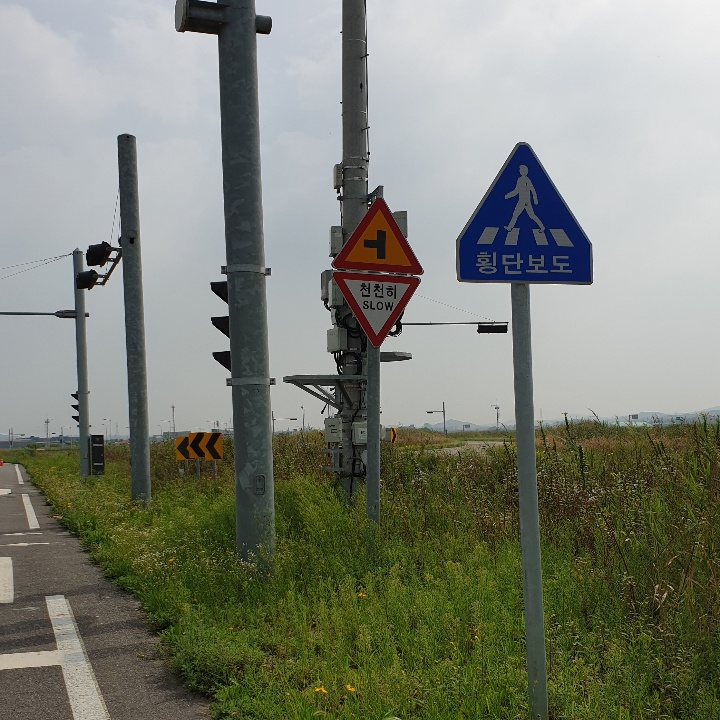cross: (492, 152, 556, 240)
